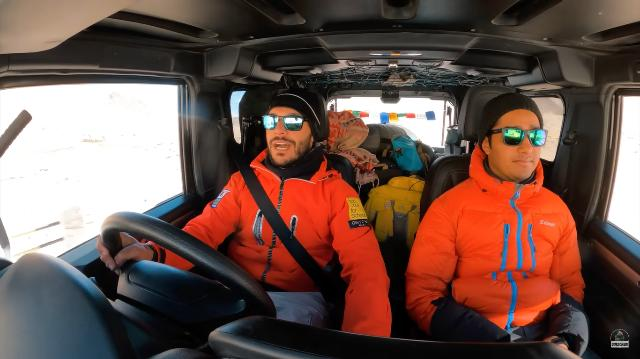no seatbelt: (422, 186, 602, 334)
seatbelt: (226, 141, 344, 307)
